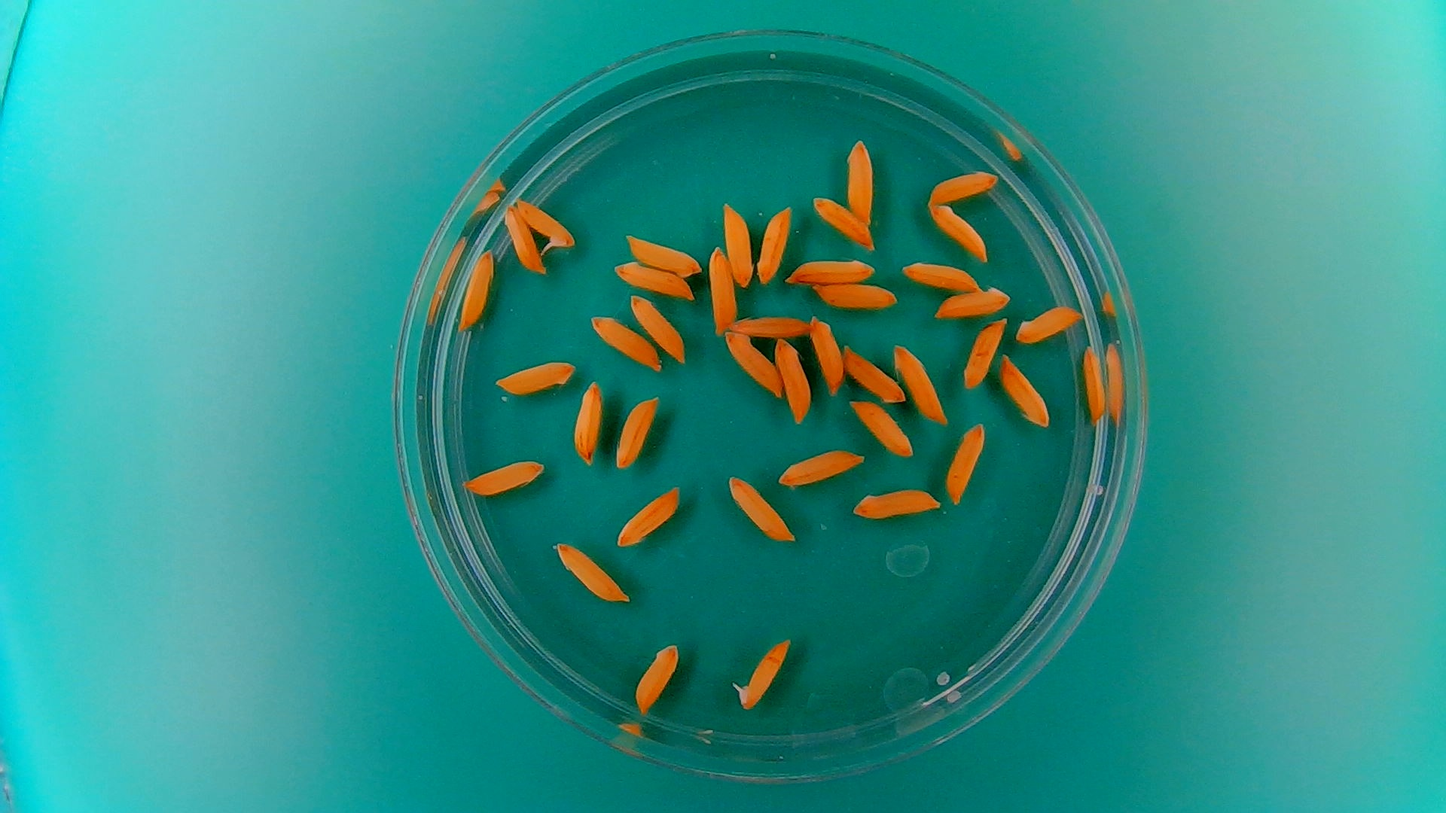no: (551, 539, 629, 604), (725, 474, 796, 544), (892, 340, 948, 427), (997, 352, 1052, 430), (615, 483, 682, 547), (722, 330, 782, 397), (588, 314, 662, 368), (628, 292, 685, 362), (840, 343, 906, 403), (848, 399, 915, 458), (926, 201, 989, 262), (776, 445, 865, 487), (613, 392, 660, 470), (944, 420, 987, 505), (772, 336, 813, 424), (633, 641, 681, 716), (812, 193, 876, 249), (462, 456, 545, 497), (962, 316, 1008, 389), (624, 234, 702, 277), (493, 358, 578, 396), (501, 202, 545, 275), (458, 248, 496, 331), (852, 486, 942, 521), (613, 260, 695, 298), (755, 205, 793, 285), (1014, 302, 1084, 345), (720, 199, 755, 285), (706, 244, 739, 335), (808, 313, 845, 394), (572, 377, 605, 466), (723, 312, 819, 342), (926, 167, 999, 206), (844, 138, 876, 224), (935, 284, 1011, 320), (786, 255, 876, 285), (901, 260, 982, 293), (814, 282, 901, 311), (1080, 342, 1106, 423)
yes: (731, 635, 792, 713), (514, 196, 577, 251)
